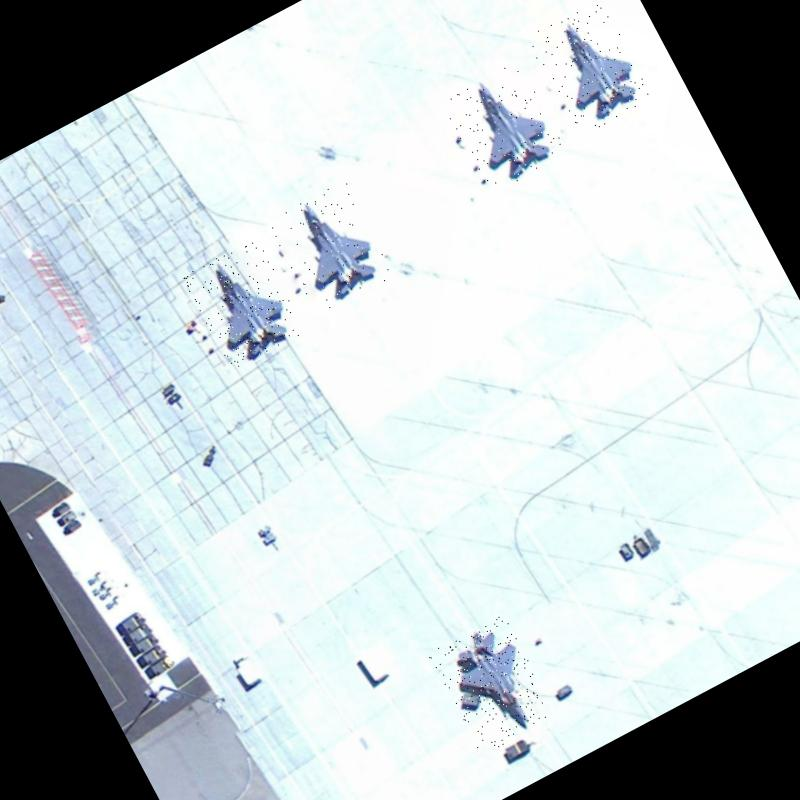A13: (427, 612, 557, 756), (265, 176, 396, 317), (439, 58, 568, 196), (525, 0, 654, 137), (181, 237, 307, 372)
